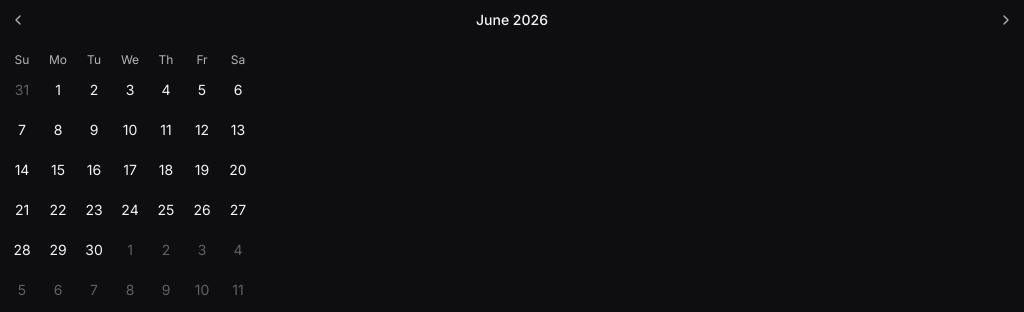
Test: Calendar › navigates to the next month via the nav button
Click the button named "next month" at (1006,20), box [992, 6, 1020, 34]
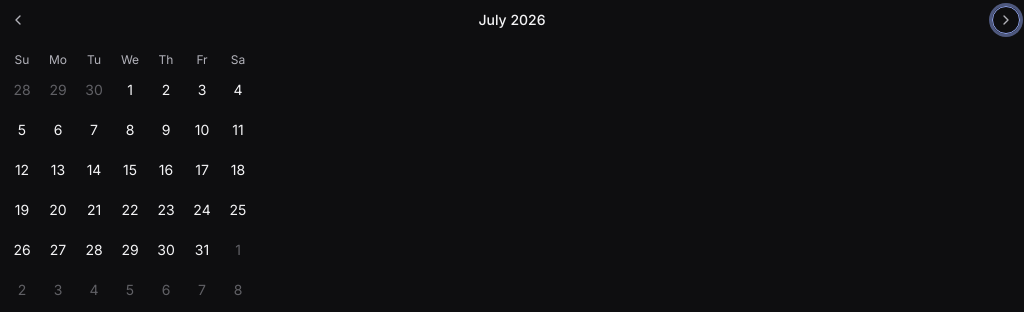
Check: the text "July 2026" is shown, box [478, 10, 546, 30]
